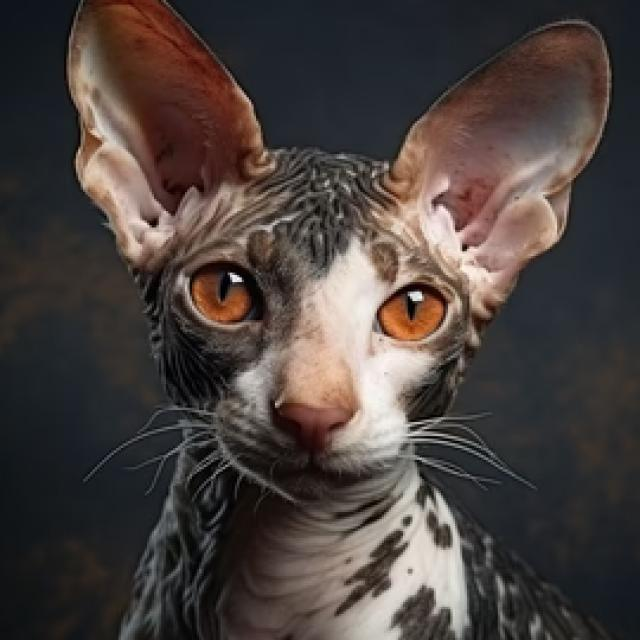Cornish Rex: (59, 0, 640, 640)
